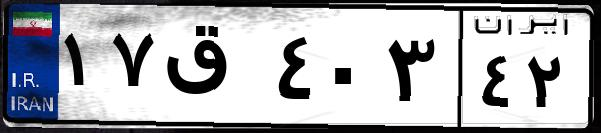0: (330, 28, 385, 110)
1: (57, 26, 110, 100)
2: (525, 38, 570, 115)
3: (385, 28, 445, 110)
4: (270, 28, 330, 110), (475, 38, 525, 113)
7: (110, 28, 158, 98)
ق: (158, 20, 270, 120)
